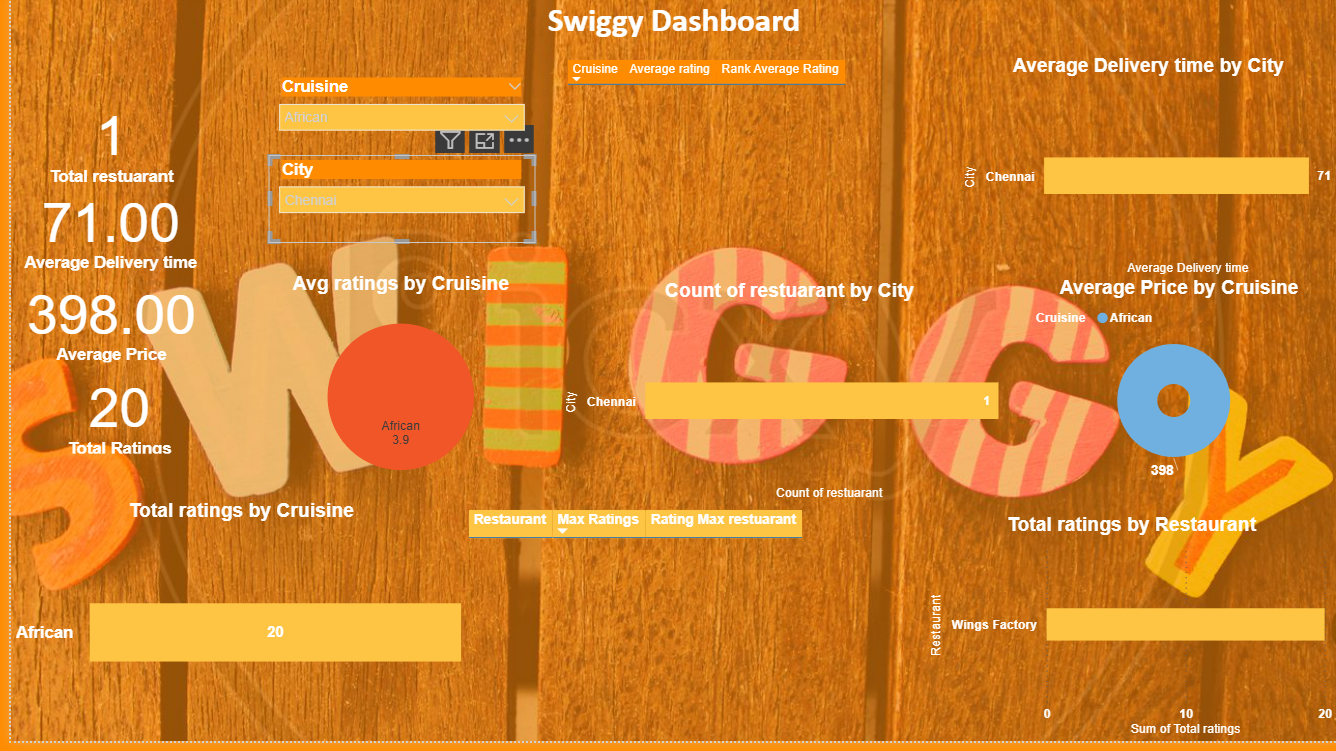

Layout of this report page (visuals, bound fields, positions):
{"tool":"powerbi","page":{"name":"Page 1","canvas":[1280,720],"ordinal":0},"visuals":[{"type":"card","fields":{"Values":["Measures (2).Average Delivery time"]},"box":[0,177.3,193,94.1],"z":0},{"type":"card","fields":{"Values":["Measures (2).Average Price"]},"box":[0,266.6,209.9,92.9],"z":1000},{"type":"card","fields":{"Values":["Measures (2).Total Ratings"]},"box":[0,359.5,209.9,88.1],"z":2000},{"type":"card","fields":{"Values":["Measures (2).Total restuarant"]},"box":[0,94.1,194.2,94.1],"z":3000},{"type":"tableEx","fields":{"Values":["swiggy.Restaurant","Measures (2).Max Ratings","Measures (2).Rating Max restuarant"]},"box":[435.5,492.2,433.1,228],"z":4000},{"type":"barChart","title":"Total ratings by Restaurant","fields":{"Category":["swiggy.Restaurant"],"Y":["Sum(swiggy.Total ratings)"]},"box":[883.1,500.7,396.9,219.6],"z":5000},{"type":"pieChart","title":"Avg ratings by Cruisine","fields":{"Category":["swiggy.Cruisine"],"Y":["Avg(swiggy.Avg ratings)"]},"box":[222,267.8,308.8,219.6],"z":6000},{"type":"tableEx","fields":{"Values":["swiggy.Cruisine","Measures (2).Average rating","Measures (2).Rank Average Rating"]},"box":[530.8,57.9,421,209.9],"z":7000},{"type":"barChart","fields":{"Category":["swiggy.City"],"Y":["Measures (2).Total restuarant"]},"box":[530.8,275.1,441.6,217.2],"z":8000},{"type":"barChart","fields":{"Category":["swiggy.City"],"Y":["Measures (2).Average Delivery time"]},"box":[915.7,57.9,364.3,217.2],"z":9000},{"type":"AsterPlot1443303142064","fields":{"Category":["swiggy.Cruisine"],"Y":["Measures (2).Average Price"]},"box":[984.5,271.4,285.9,201.5],"z":10000},{"type":"slicer","fields":{"Values":["swiggy.City"]},"box":[260.7,57.6,256.6,167.4],"z":11000},{"type":"funnel","title":"Total ratings by Cruisine","fields":{"Y":["Sum(swiggy.Total ratings)"],"Category":["swiggy.Cruisine"]},"box":[0,487.1,444.6,233.3],"z":12000},{"type":"textbox","box":[0,0,1280,57.9],"z":13000}]}

Visuals, with their boxes in screenshot pixels (x1, y1, x2, y2), scaled from the page's 1280x720 canvas onto the 1336x751 screenshot:
card - Measures (2).Average Delivery time: <bbox>0, 185, 201, 283</bbox>
card - Measures (2).Average Price: <bbox>0, 278, 219, 375</bbox>
card - Measures (2).Total Ratings: <bbox>0, 375, 219, 467</bbox>
card - Measures (2).Total restuarant: <bbox>0, 98, 203, 196</bbox>
tableEx - swiggy.Restaurant x Measures (2).Max Ratings: <bbox>455, 513, 907, 750</bbox>
"Total ratings by Restaurant" barChart: <bbox>922, 522, 1335, 750</bbox>
"Avg ratings by Cruisine" pieChart: <bbox>232, 279, 554, 508</bbox>
tableEx - swiggy.Cruisine x Measures (2).Average rating: <bbox>554, 60, 993, 279</bbox>
barChart - swiggy.City x Measures (2).Total restuarant: <bbox>554, 287, 1015, 513</bbox>
barChart - swiggy.City x Measures (2).Average Delivery time: <bbox>956, 60, 1335, 287</bbox>
AsterPlot1443303142064 - swiggy.Cruisine x Measures (2).Average Price: <bbox>1028, 283, 1326, 493</bbox>
slicer - swiggy.City: <bbox>272, 60, 540, 235</bbox>
"Total ratings by Cruisine" funnel: <bbox>0, 508, 464, 750</bbox>
textbox: <bbox>0, 0, 1335, 60</bbox>
